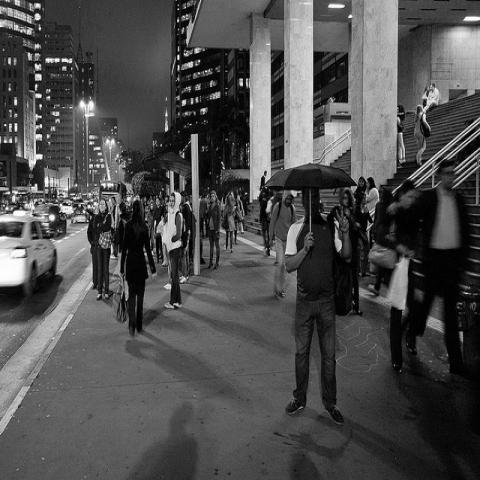car: (0, 214, 57, 301), (33, 204, 67, 237), (71, 204, 90, 224), (60, 202, 74, 218), (4, 204, 14, 214), (83, 200, 90, 206)
